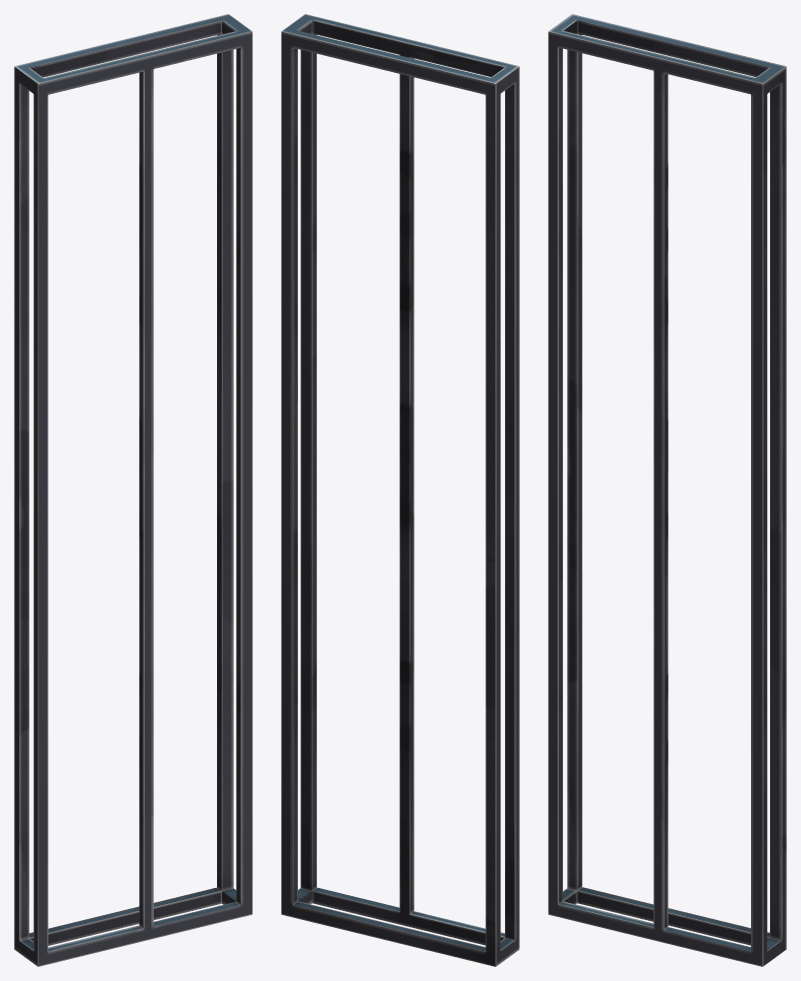
File: Props-TextBanner-Bar_FRAME.fbx
3 views of the same model, side by side, from view 1: azimuth 30°, elevation 25°; view 2: azimuth 150°, elevation 25°; view 3: azimuth 330°, elevation 25° (orthographic).
Parts seen in each view (by area): view 1: Props-TextBanner-Bar_FRAME; view 2: Props-TextBanner-Bar_FRAME; view 3: Props-TextBanner-Bar_FRAME.
Boxes of the visible parts, x1=… form: Props-TextBanner-Bar_FRAME: x1=14, y1=14, x2=252, y2=966; Props-TextBanner-Bar_FRAME: x1=281, y1=14, x2=519, y2=966; Props-TextBanner-Bar_FRAME: x1=548, y1=14, x2=786, y2=966.
Size of the model in its own units: 49.56 by 195 by 9.6.
